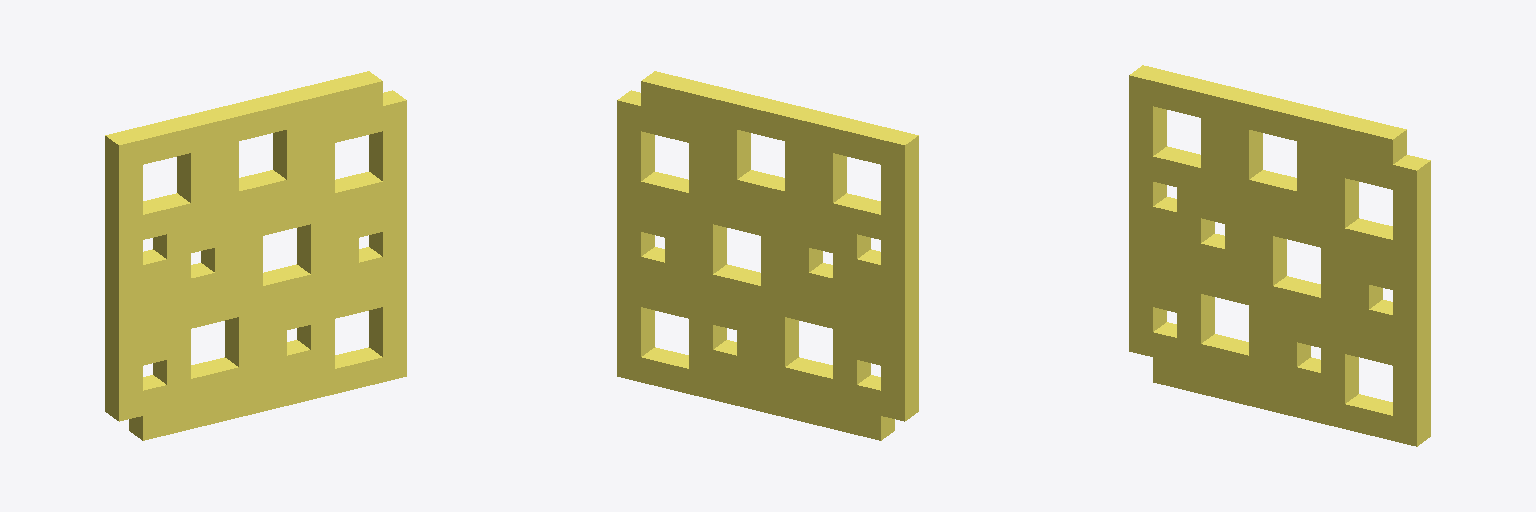
The picture shows the model from 3 angles: view 1: azimuth 30°, elevation 25°; view 2: azimuth 150°, elevation 25°; view 3: azimuth 330°, elevation 25°; orthographic projection.
Parts seen in each view (by area): view 1: Model; view 2: Model; view 3: Model.
Boxes of the visible parts, <box> form: Model: <box>105,71,406,440</box>; Model: <box>617,71,918,440</box>; Model: <box>1129,65,1430,446</box>.
Bounding box in the file's own units: 32 × 32 × 2.67.
1 materials, 1 textured.